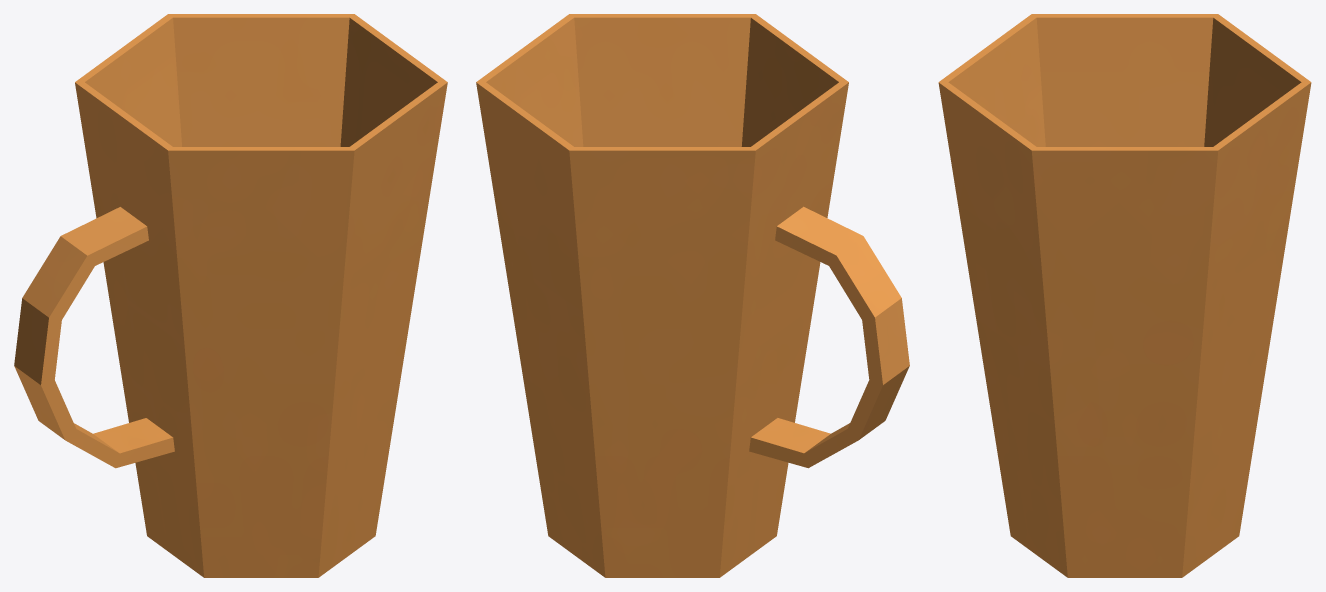
Rendered from Cup_2.fbx.
3 renders of one model, left to right at view 1: azimuth 30°, elevation 25°; view 2: azimuth 150°, elevation 25°; view 3: azimuth 270°, elevation 25°, orthographic.
Visible parts, largest first — view 1: Cup 2; view 2: Cup 2; view 3: Cup 2.
Boxes of the visible parts, left/top/right/bottom form: Cup 2: left=14, top=14, right=447, bottom=577; Cup 2: left=476, top=14, right=909, bottom=577; Cup 2: left=938, top=14, right=1311, bottom=577.
Bounding box in the file's own units: 13.11 × 15.21 × 11.33.
